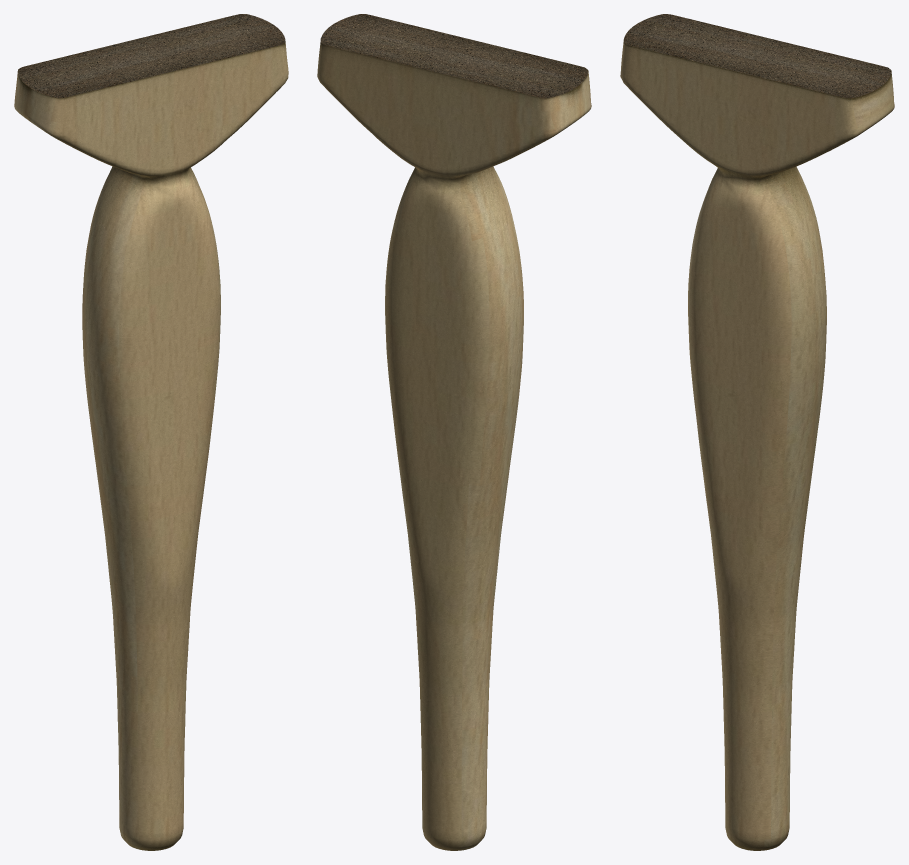
File: shoubing2.glb
The picture shows the model from 3 angles, left to right: view 1: azimuth 30°, elevation 25°; view 2: azimuth 150°, elevation 25°; view 3: azimuth 330°, elevation 25°; orthographic projection.
Parts seen in each view (by area): view 1: shoubing2; view 2: shoubing2; view 3: shoubing2.
Boxes of the visible parts, x1,y1,x2,y2 form: shoubing2: [14, 14, 288, 850]; shoubing2: [317, 14, 591, 850]; shoubing2: [620, 14, 894, 850].
Bounding box in the file's own units: 0.5053 × 1.51 × 0.147.
Materials: 1 (1 with a texture image).
